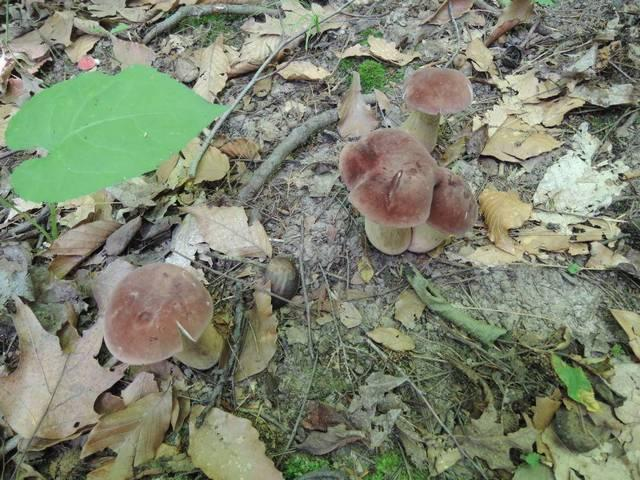poisonous_mushroom: (338, 127, 477, 255), (100, 261, 214, 368), (399, 58, 467, 141)
